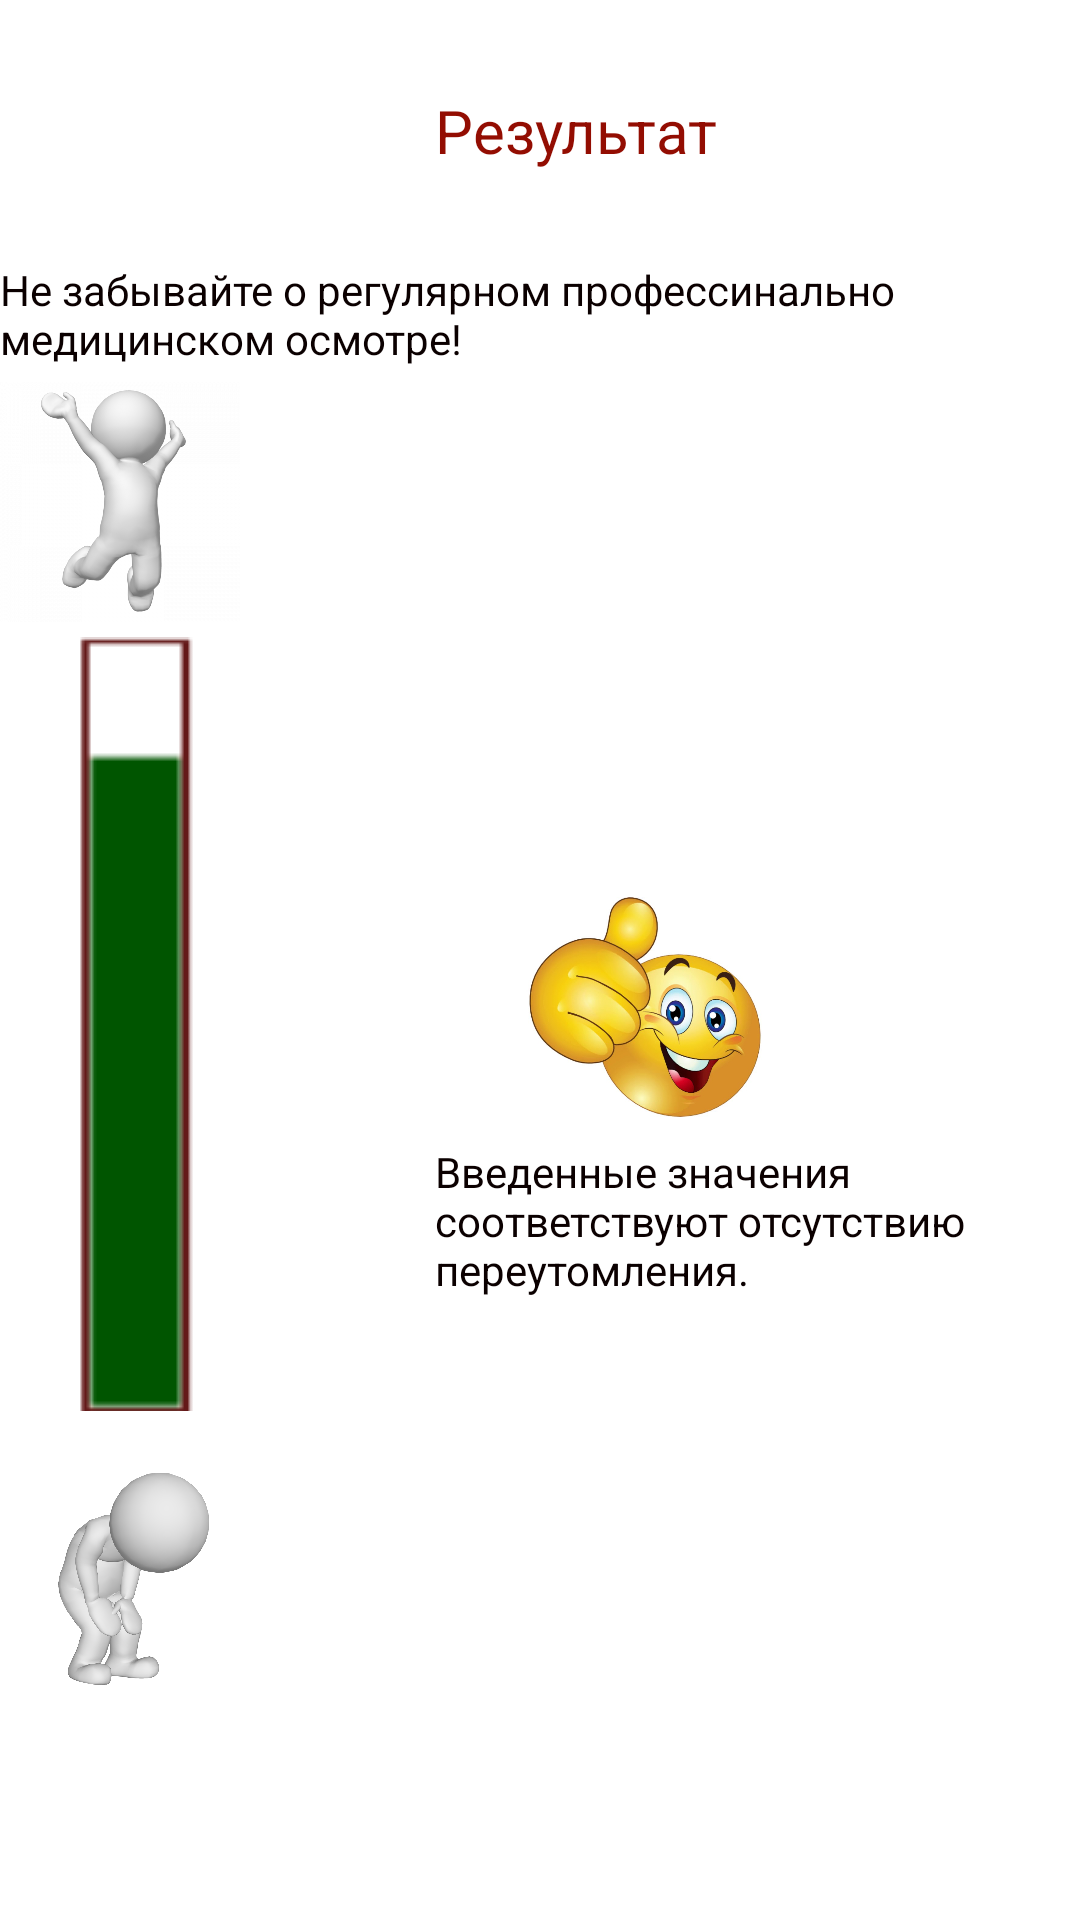

Screen size 1080×1920. Icon name, then its box in pixels as {"x1": x1, "y1": y1, "x2": x2, "y2": y2}:
happy: {"x1": 41, "y1": 390, "x2": 186, "y2": 612}
sad: {"x1": 58, "y1": 1473, "x2": 209, "y2": 1685}
